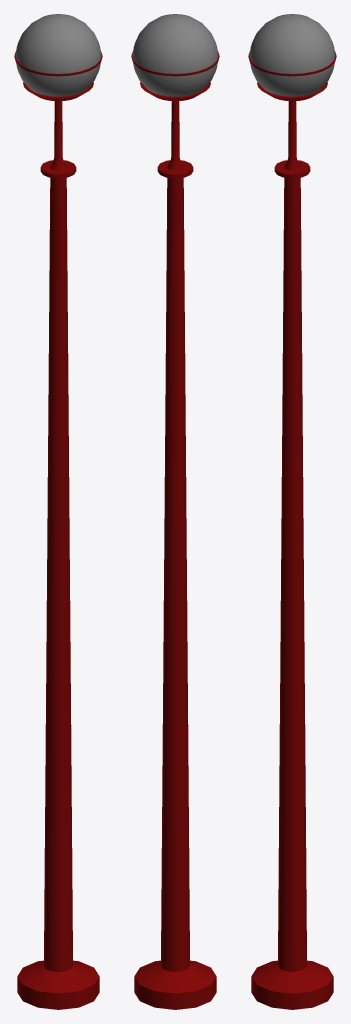
Rendered from road_lamp_01.fbx.
3 renders of one model, left to right at view 1: azimuth 30°, elevation 25°; view 2: azimuth 210°, elevation 25°; view 3: azimuth 270°, elevation 25°, orthographic.
Parts seen in each view (by area): view 1: road_light; view 2: road_light; view 3: road_light.
Boxes of the visible parts, x1,y1,x2,y2 form: road_light: (14,14,102,1009); road_light: (131,14,219,1009); road_light: (248,14,336,1009).
Bounding box in the file's own units: 825 × 10065 × 825.
